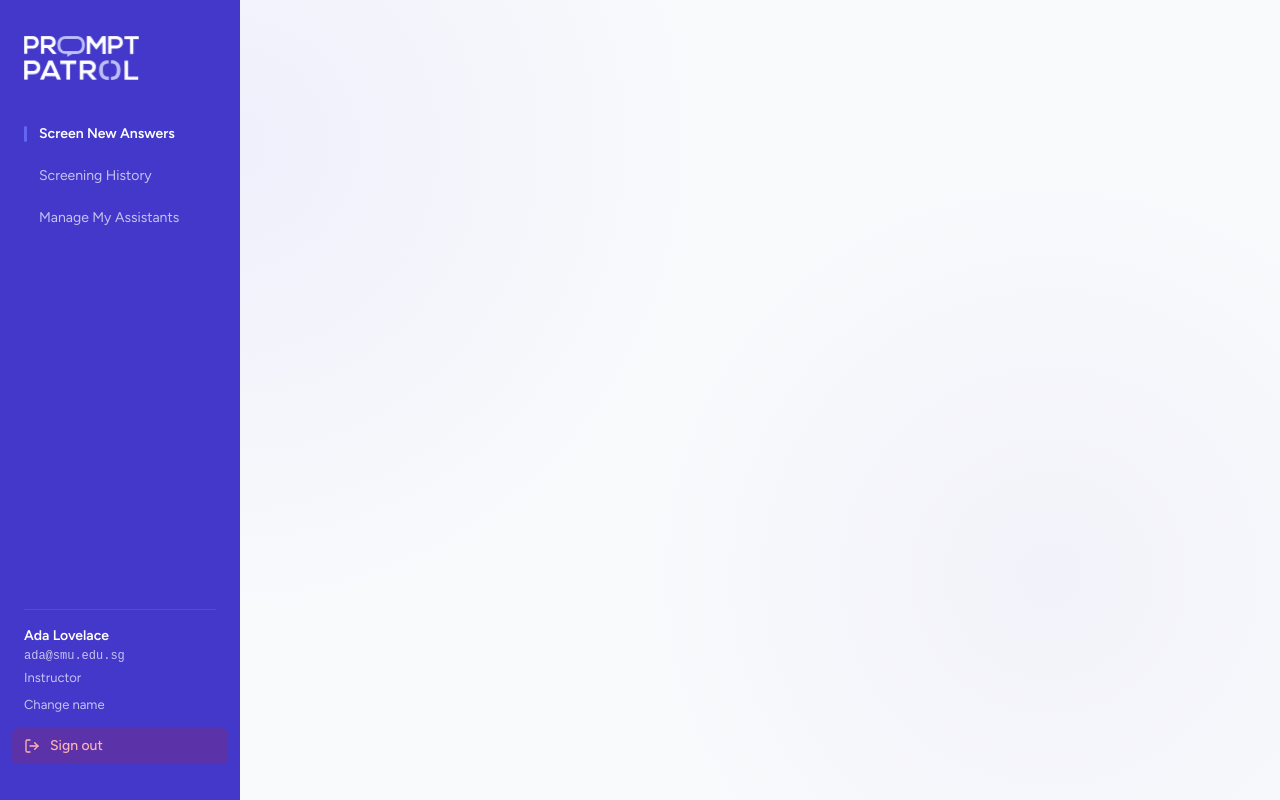
Test: Sidebar - who is signed in › shows my name above my email and lets me change it
The width and height of the screenshot is (1280, 800).
Expected: the text "Ada Lovelace" is shown, [24,626,109,644]
Click the button "Change name": (64, 705) [20,695,108,714]
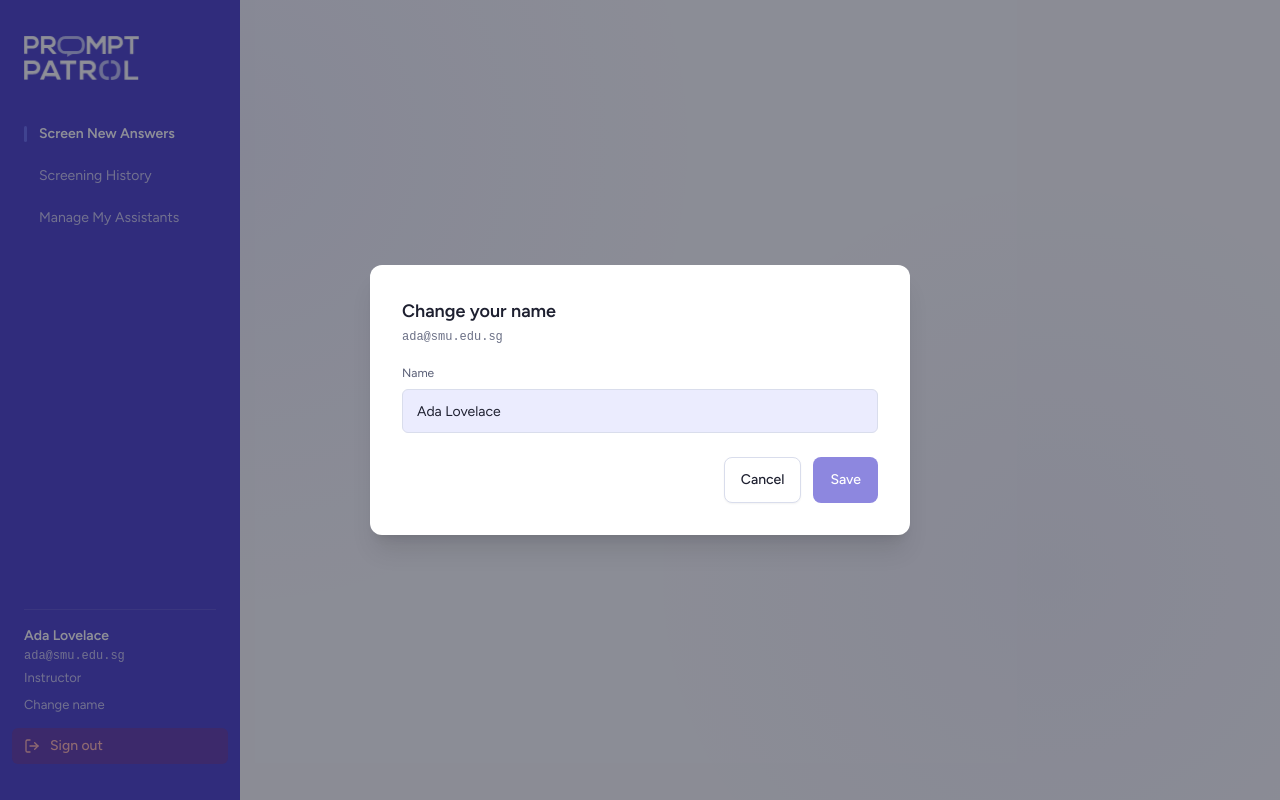
Result: the dialog "Change your name" is shown at [370,265,910,535]
